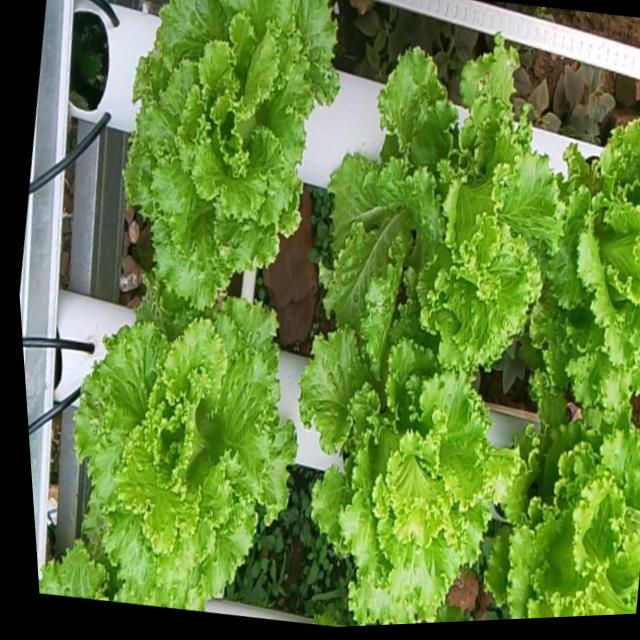Mature: (328, 5, 562, 371), (51, 289, 299, 612), (124, 0, 341, 310), (301, 325, 522, 625), (490, 391, 640, 619), (534, 115, 640, 406)
